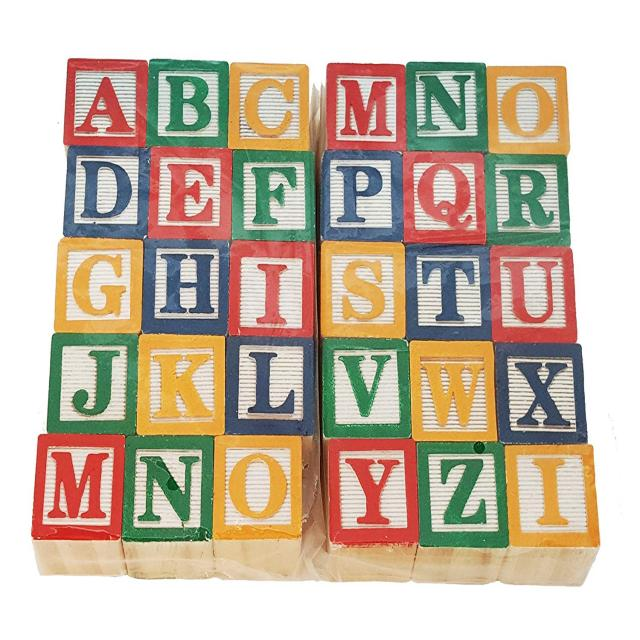S: (333, 256, 394, 323)
